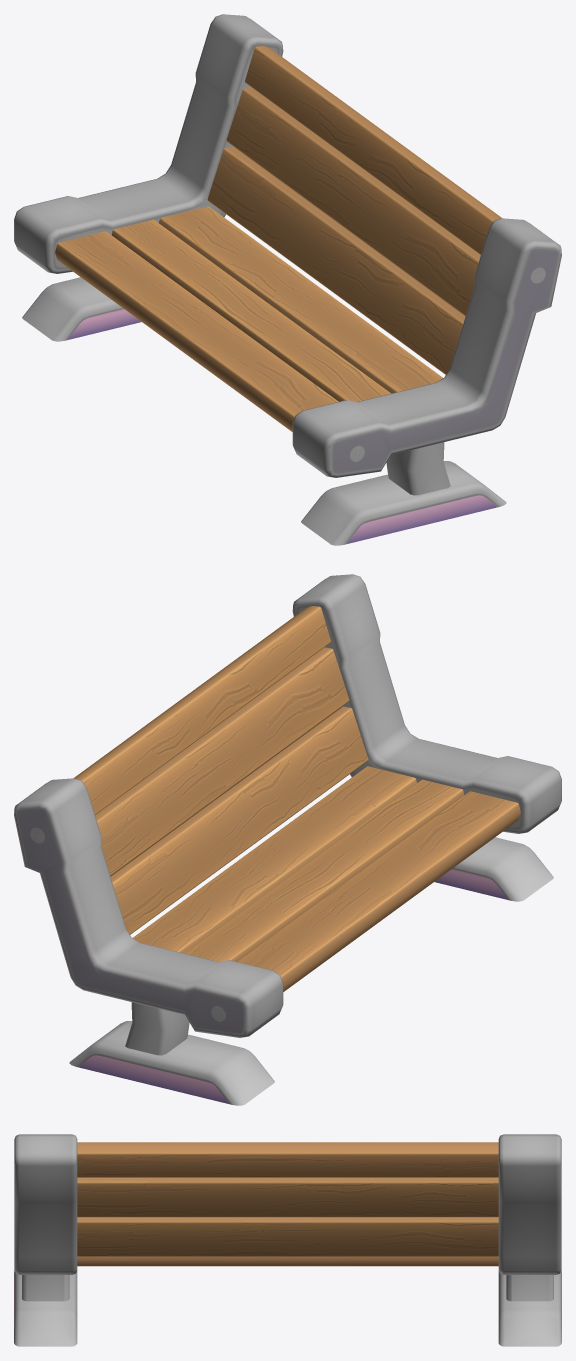
File: Bench01.fbx
3 renders of one model, top to bottom at view 1: azimuth 30°, elevation 25°; view 2: azimuth 150°, elevation 25°; view 3: azimuth 270°, elevation 25°, orthographic. The views are drawn at different scales.
Visible parts, largest first — view 1: Bench_LOD0; view 2: Bench_LOD0; view 3: Bench_LOD0.
Boxes of the visible parts, x1=… form: Bench_LOD0: x1=14, y1=14, x2=561, y2=545; Bench_LOD0: x1=14, y1=574, x2=561, y2=1105; Bench_LOD0: x1=14, y1=1134, x2=561, y2=1346.
Size of what is drawn, in the model's own units: 119 by 122 by 274.
